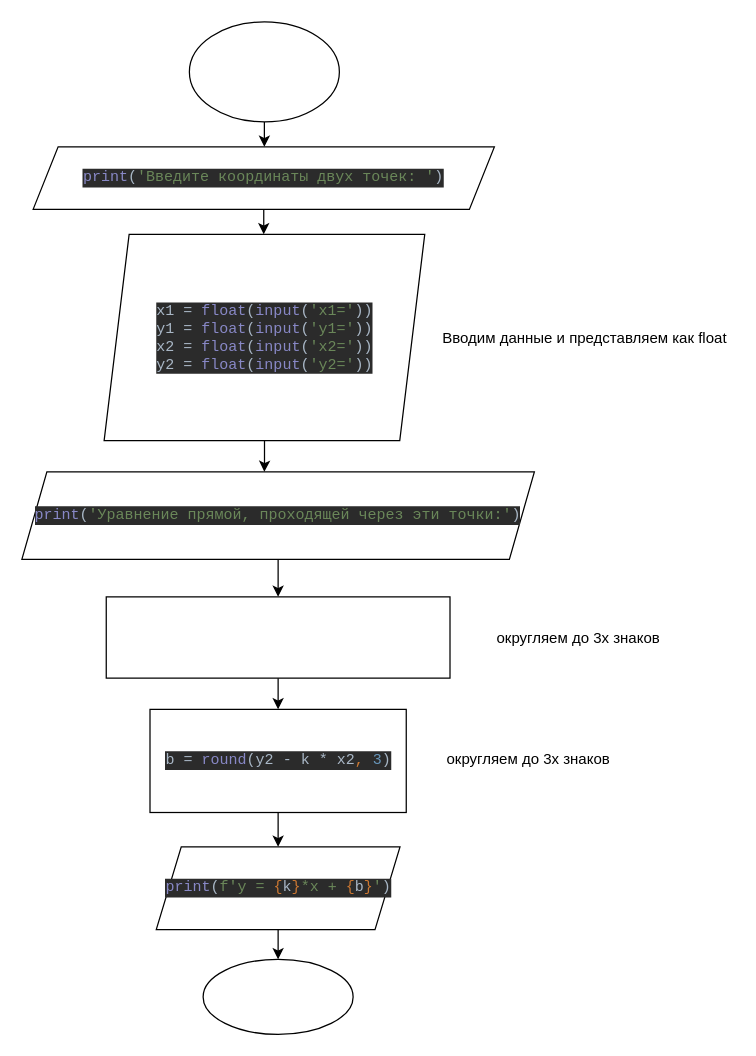
Image size: 756x1056. Some labels were removed from this diagram. The shapes that lost their labels are listed below. From the top down, each one's box as (x1, y1, x2, y2) in pixels, then its label:
(188, 21, 339, 122): Начало
(105, 596, 450, 678): k = round ((y1 - y2) / (x1 - x2) , 3 )
(202, 958, 353, 1034): конец
